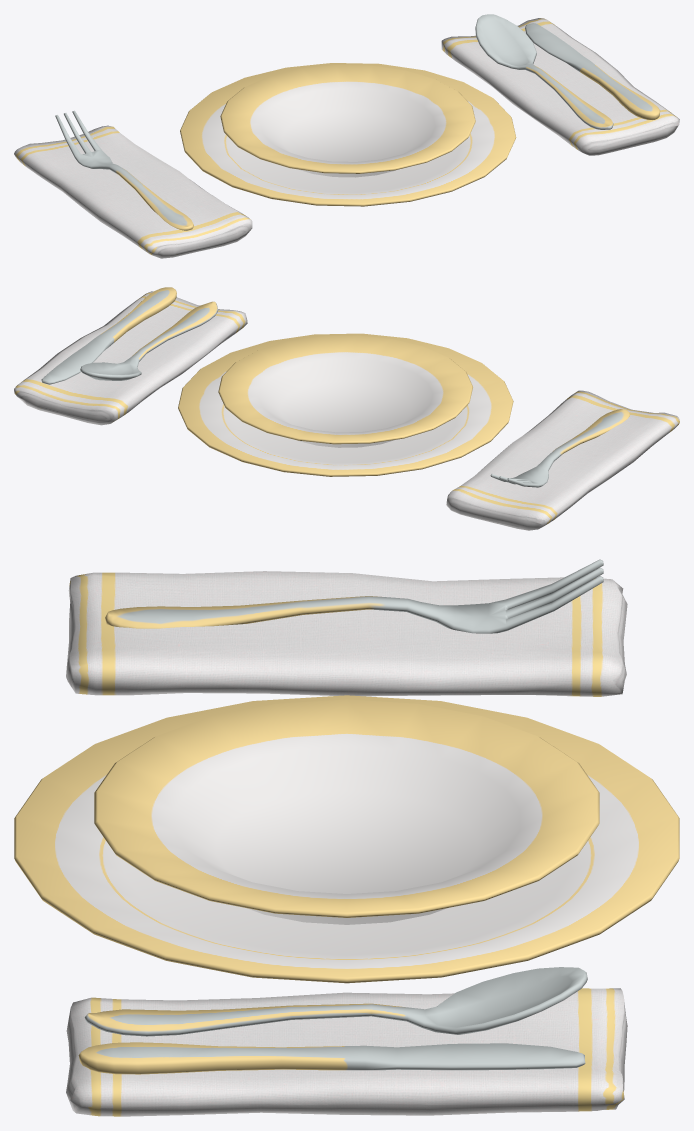
File: TableWare01_2.FBX
3 views of the same model, one above another, from view 1: azimuth 30°, elevation 25°; view 2: azimuth 150°, elevation 25°; view 3: azimuth 270°, elevation 25° (orthographic). The views are drawn at different scales.
Parts seen in each view (by area): view 1: TableWare01_2; view 2: TableWare01_2; view 3: TableWare01_2.
Boxes of the visible parts, left/top/right/bottom form: TableWare01_2: left=14, top=14, right=679, bottom=258; TableWare01_2: left=14, top=287, right=679, bottom=530; TableWare01_2: left=14, top=559, right=679, bottom=1116.
Size of what is drawn, in the model's own units: 0.5339 by 0.0439 by 0.2858.
